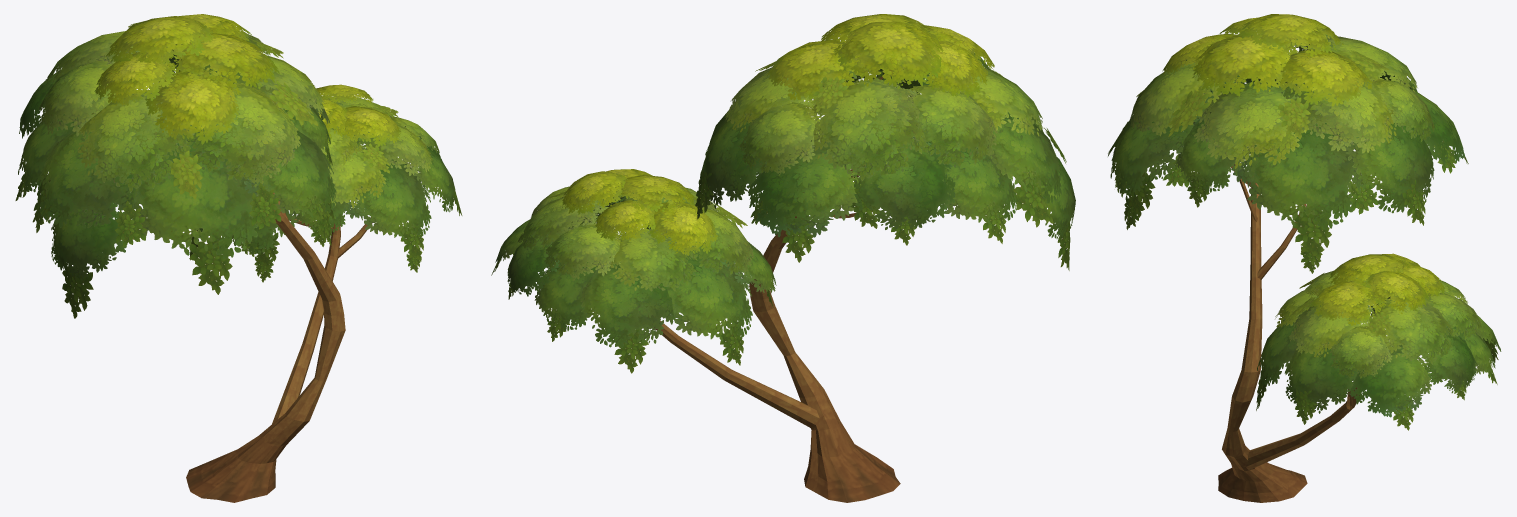
File: Tree01_2.FBX
3 renders of one model, left to right at view 1: azimuth 30°, elevation 25°; view 2: azimuth 150°, elevation 25°; view 3: azimuth 270°, elevation 25°, orthographic. The views are drawn at different scales.
Parts seen in each view (by area): view 1: Tree01_2_leaves, Tree01_2_bark; view 2: Tree01_2_leaves, Tree01_2_bark; view 3: Tree01_2_leaves, Tree01_2_bark.
Part boxes in pixels (x1,y1,x2,y2): Tree01_2_leaves: [15, 14, 462, 318]; Tree01_2_bark: [186, 193, 372, 502]; Tree01_2_leaves: [491, 14, 1075, 373]; Tree01_2_bark: [652, 76, 900, 502]; Tree01_2_leaves: [1108, 14, 1501, 430]; Tree01_2_bark: [1218, 155, 1359, 502].
Size of the model in its own units: 487 by 452 by 371.
